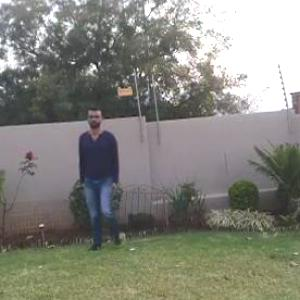follow: (88, 103, 138, 259)
